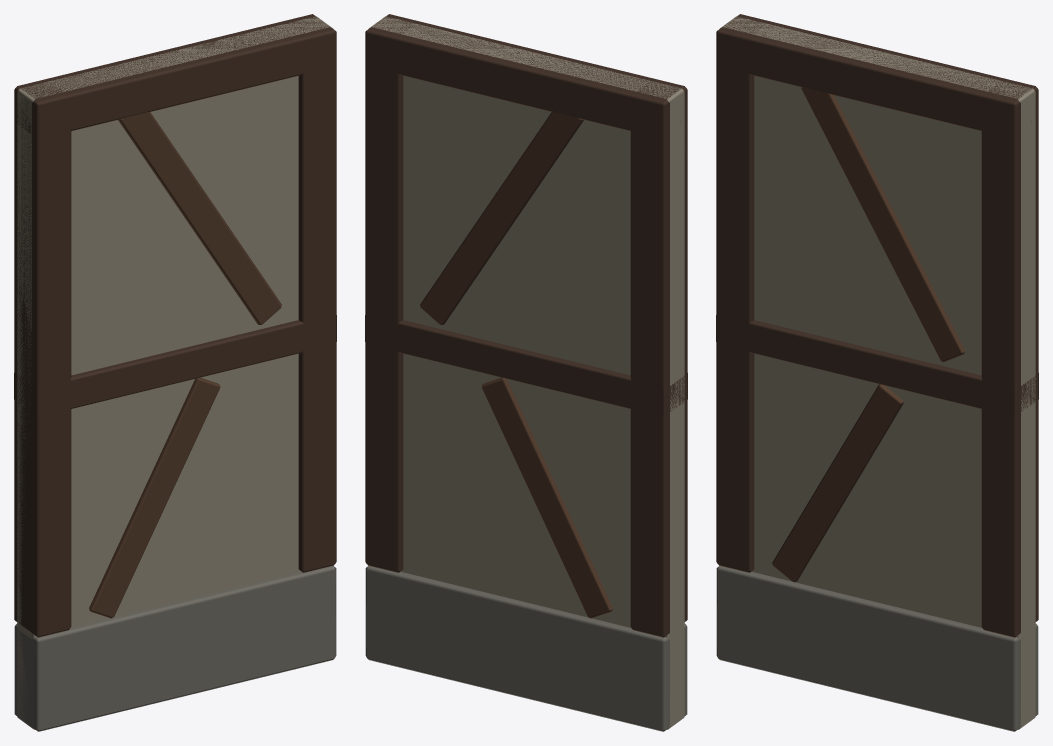
Rendered from village-wall-timber.830d17f2.glb.
3 views of the same model, side by side, from view 1: azimuth 30°, elevation 25°; view 2: azimuth 150°, elevation 25°; view 3: azimuth 330°, elevation 25° (orthographic).
Parts seen in each view (by area): view 1: body; view 2: body; view 3: body.
Part boxes in pixels (x1=…): body: x1=14, y1=14, x2=336, y2=731; body: x1=365, y1=14, x2=687, y2=731; body: x1=716, y1=14, x2=1038, y2=731.
Size of the model in its own units: 1 by 2 by 0.14.
